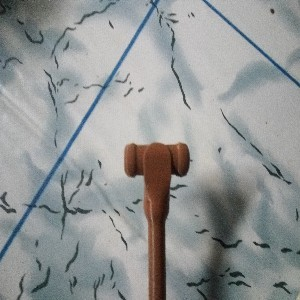palu: (123, 141, 191, 300)
